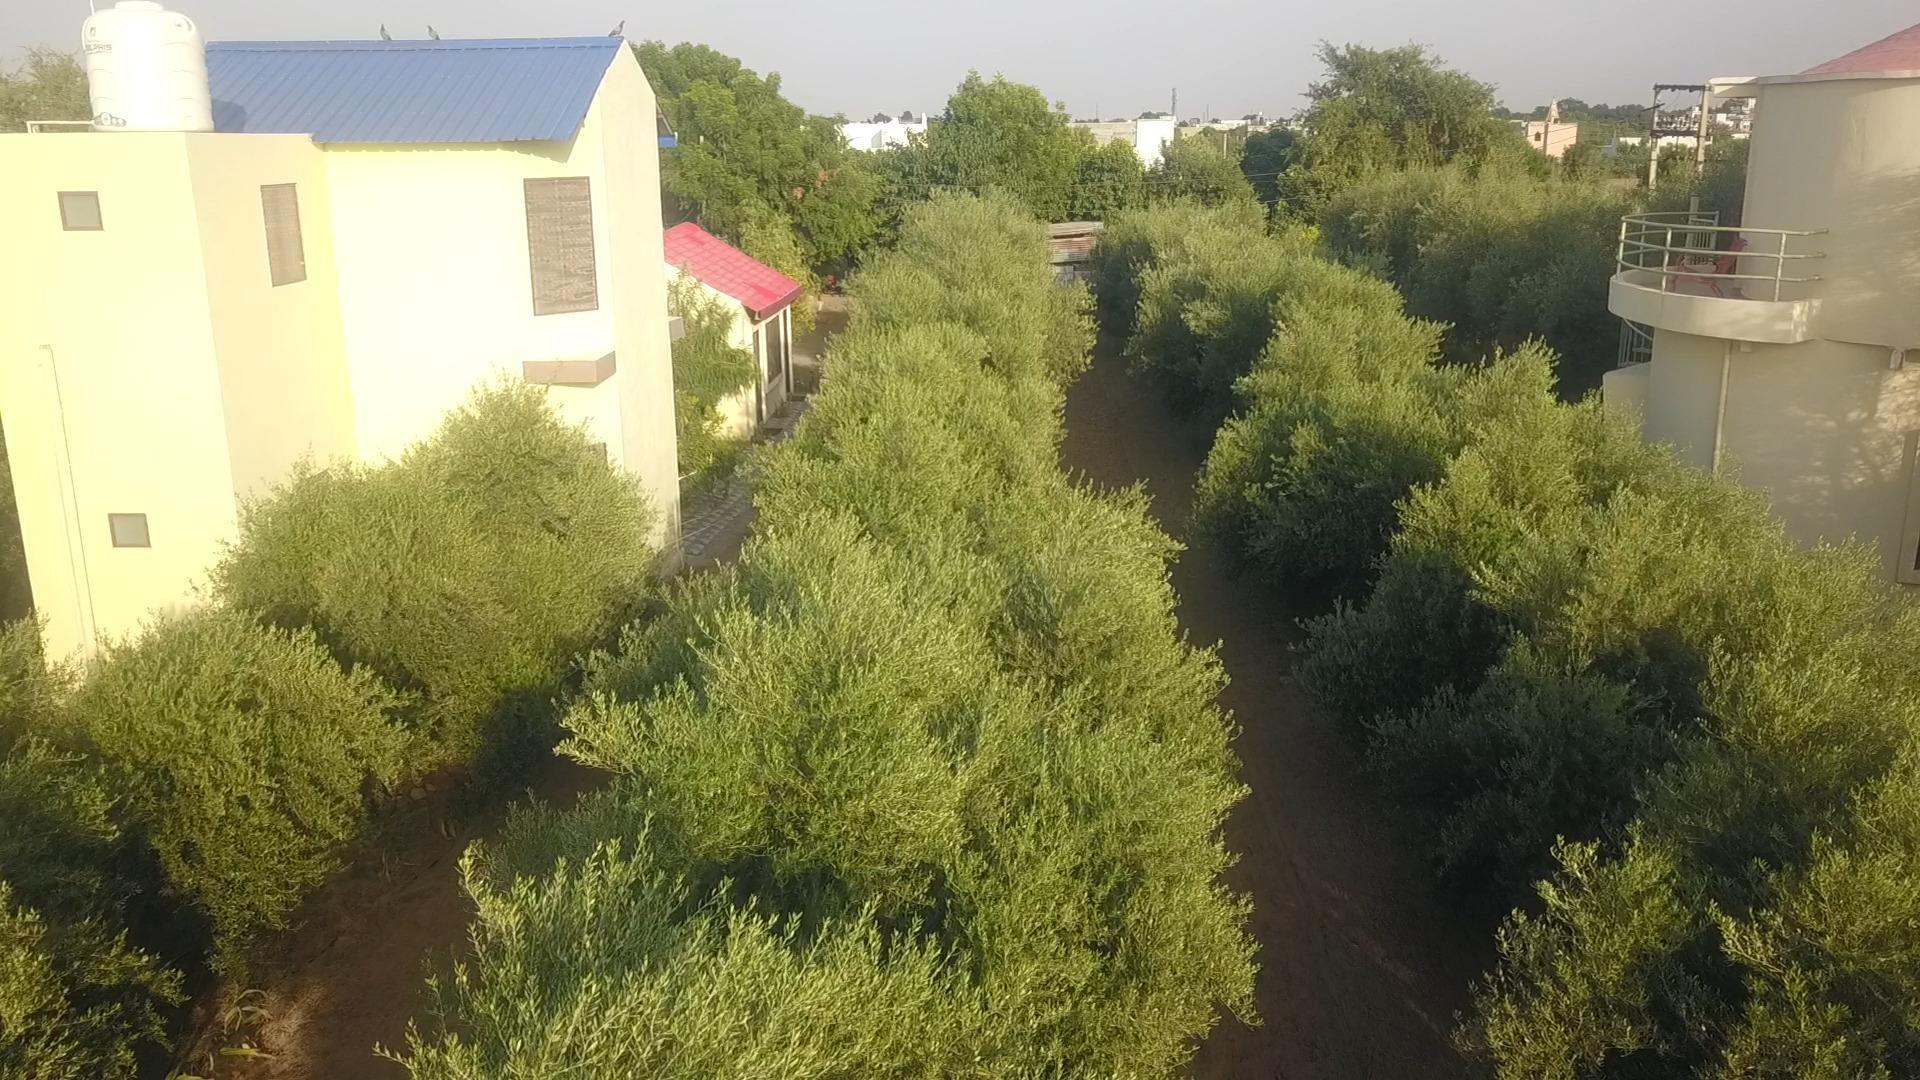canopy: (393, 194, 1258, 1079), (1091, 200, 1919, 1079), (0, 382, 655, 1076)
road: (1063, 328, 1491, 1079), (237, 791, 492, 1079)
